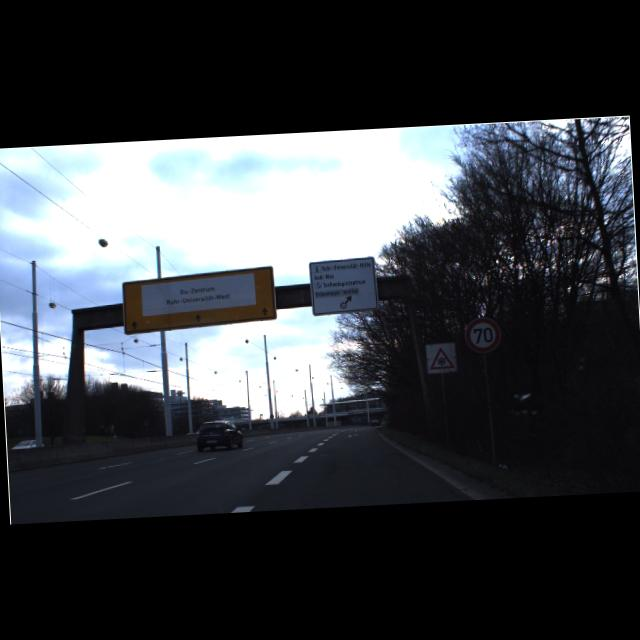danger: (428, 346, 454, 370)
prohibitory: (464, 316, 502, 354)
